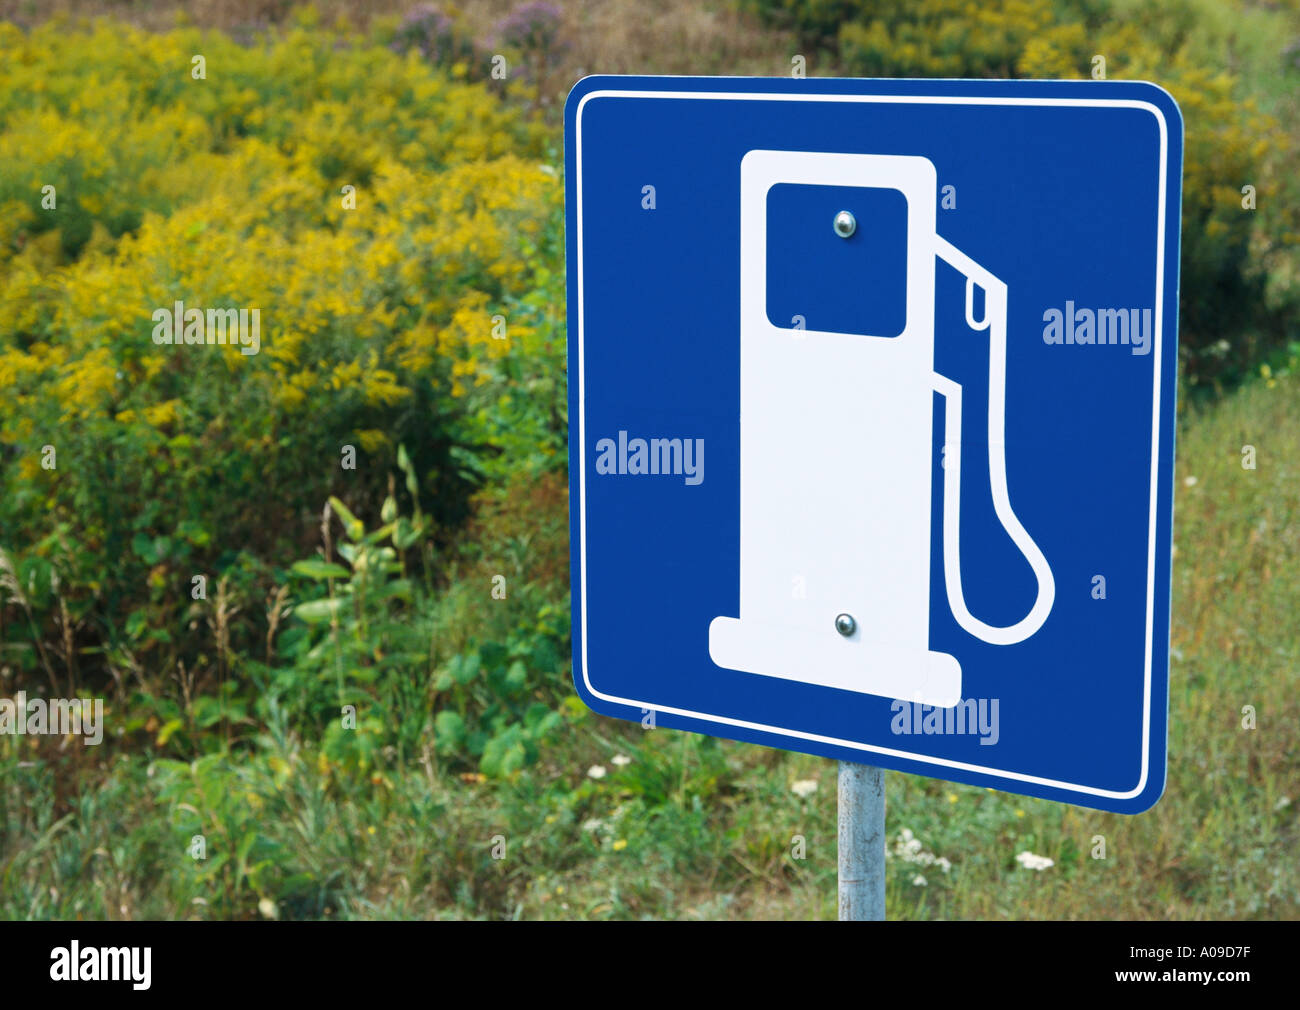fuel-station: (566, 88, 1170, 784)
